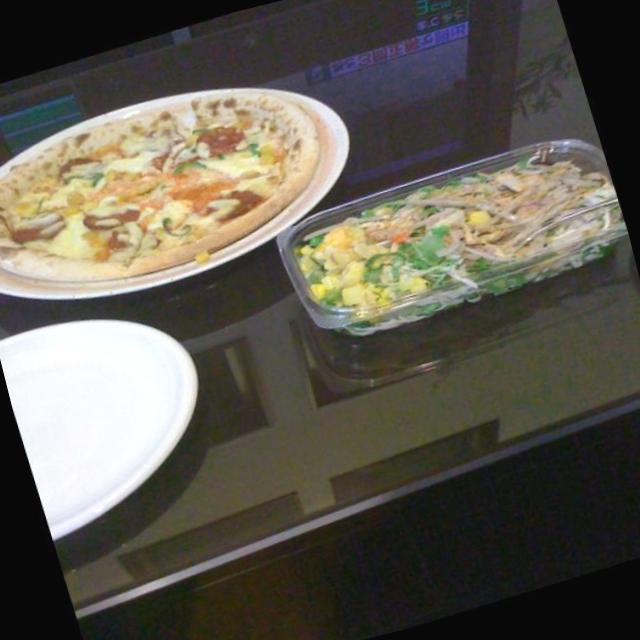Pizza: (0, 62, 345, 319)
